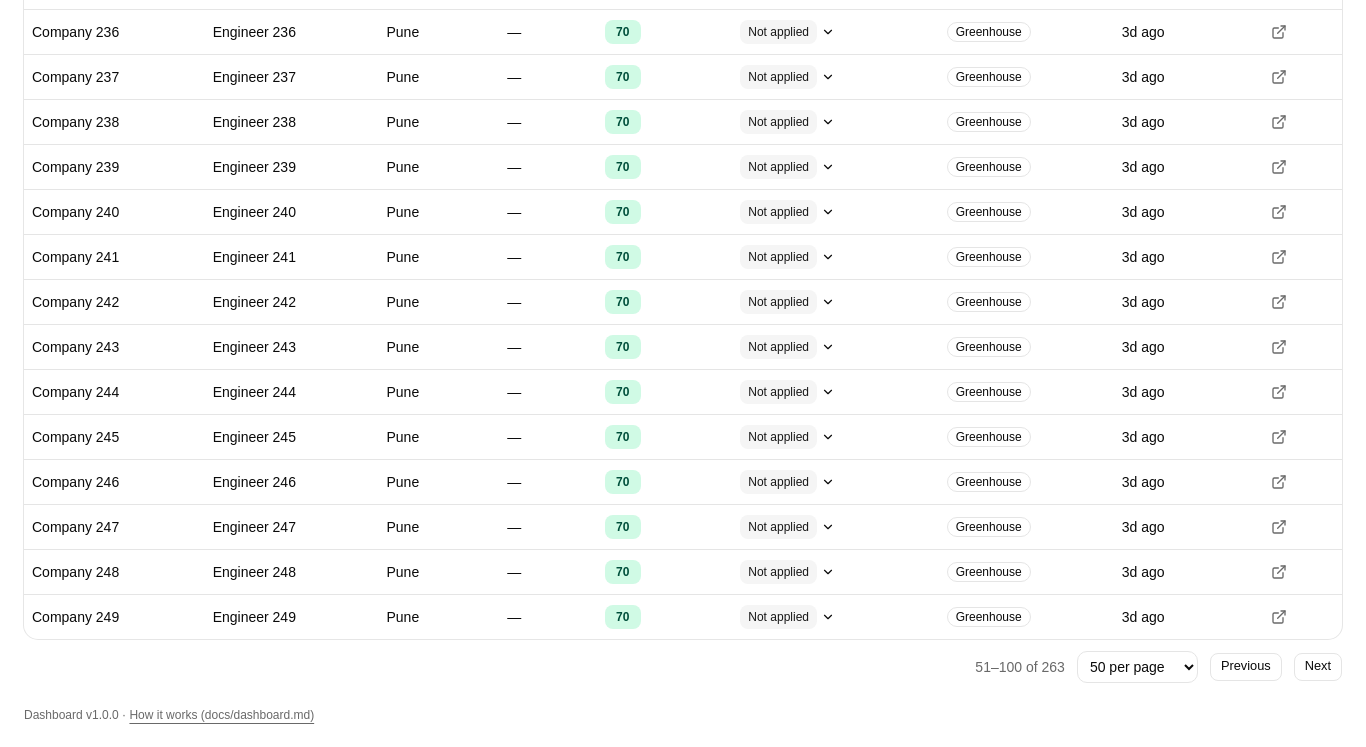
it: JobsTable: pager › changes the page size and starts again at page 1
This screenshot has width=1366, height=747.
(page scrolled)
Check: the text "51–100 of 263" is shown, box [975, 656, 1065, 676]
Select "25 per page" in the dropdown named "Rows per page" at (1137, 666), box [1077, 650, 1198, 682]
(page scrolled)
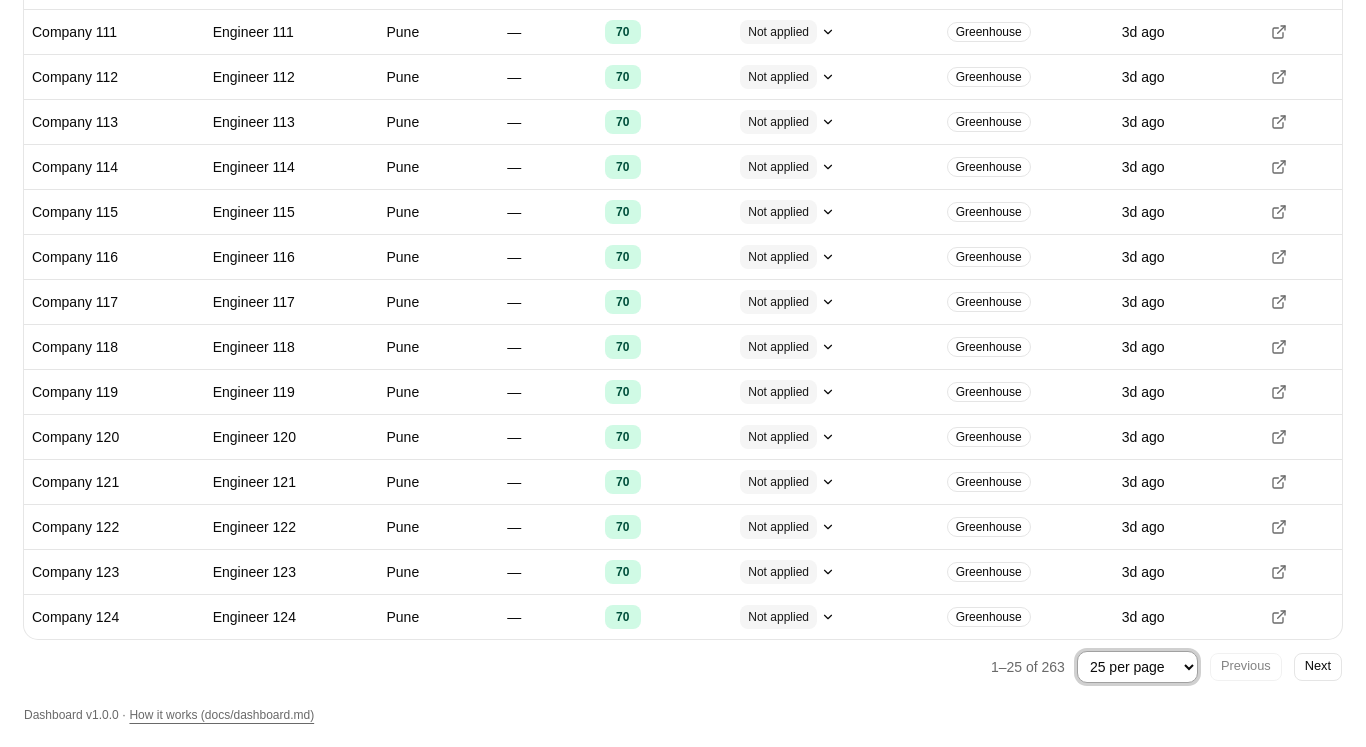
Check: the text "1–25 of 263" is shown, box [991, 656, 1065, 676]
